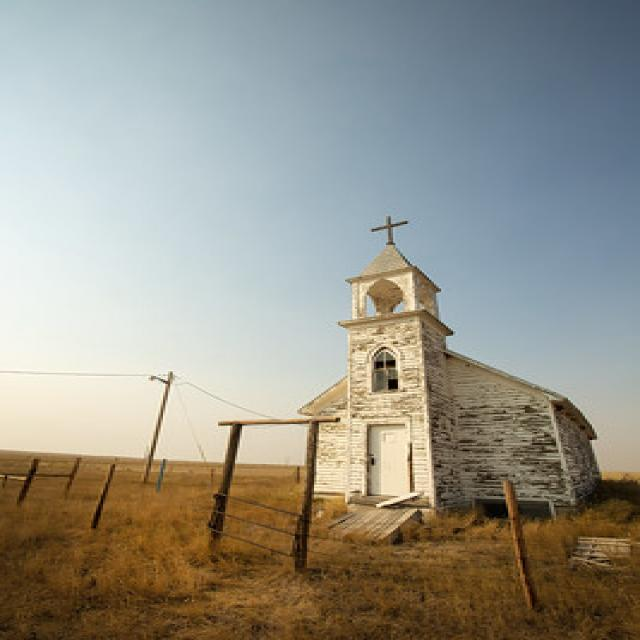Normal_building: (301, 234, 610, 518)
